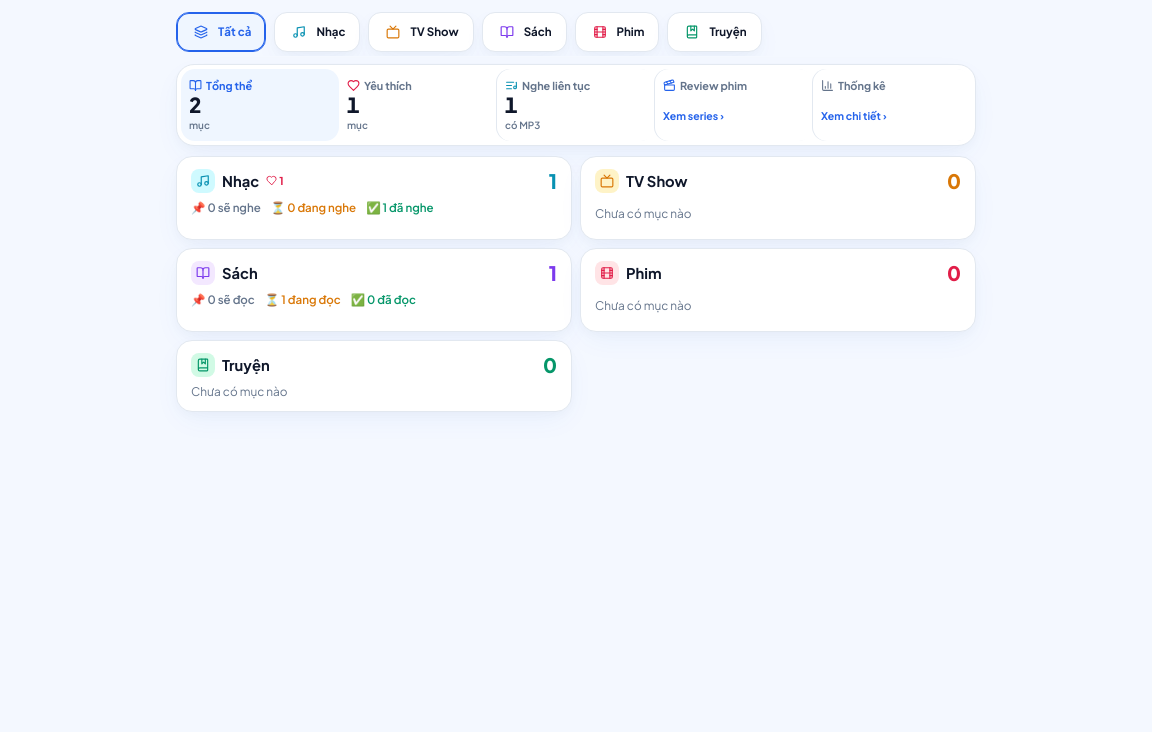
Test: LibraryPage audio navigation › keeps players out of the list and opens one focused player
The image size is (1152, 732).
Expected: the text "2026-08-12" is not shown
Expected: the text "10:04" is not shown
Click the button with aria-label "Mở thư viện Nhạc, 1 mục".
click(374, 198)  # box [176,156,572,240]
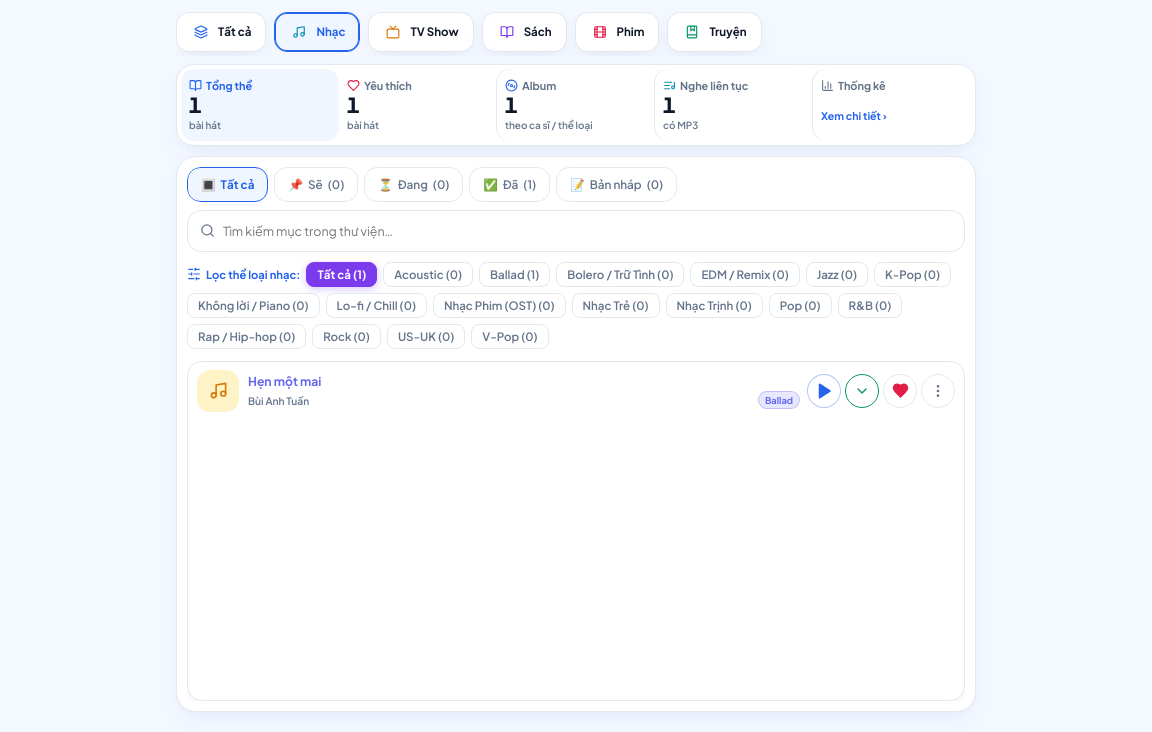
Click the button named "Nghe Hẹn một mai".
click(824, 391)  # box [807,374,841,408]
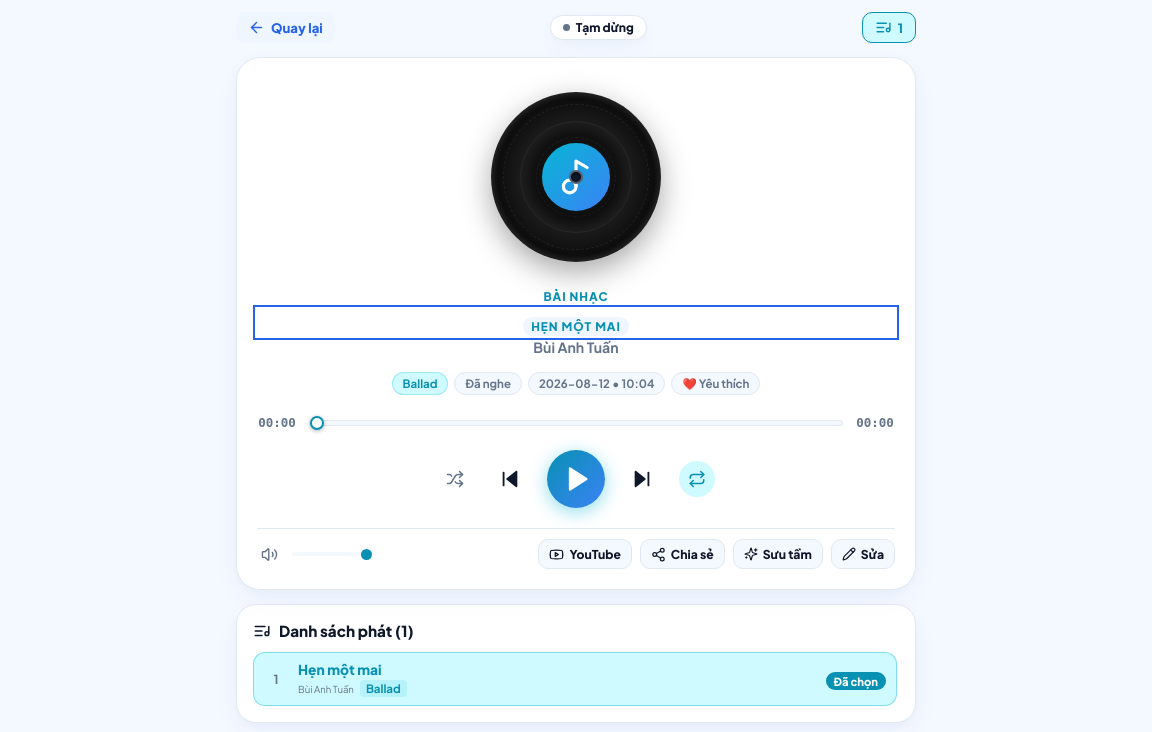
Result: the heading "Hẹn một mai" is shown at [523,317,629,336]
Result: the text "2026-08-12 • 10:04" is shown at [528,372,665,395]
Click the button with aria-label "Quay lại thư viện".
click(285, 28)  # box [236,12,335,43]
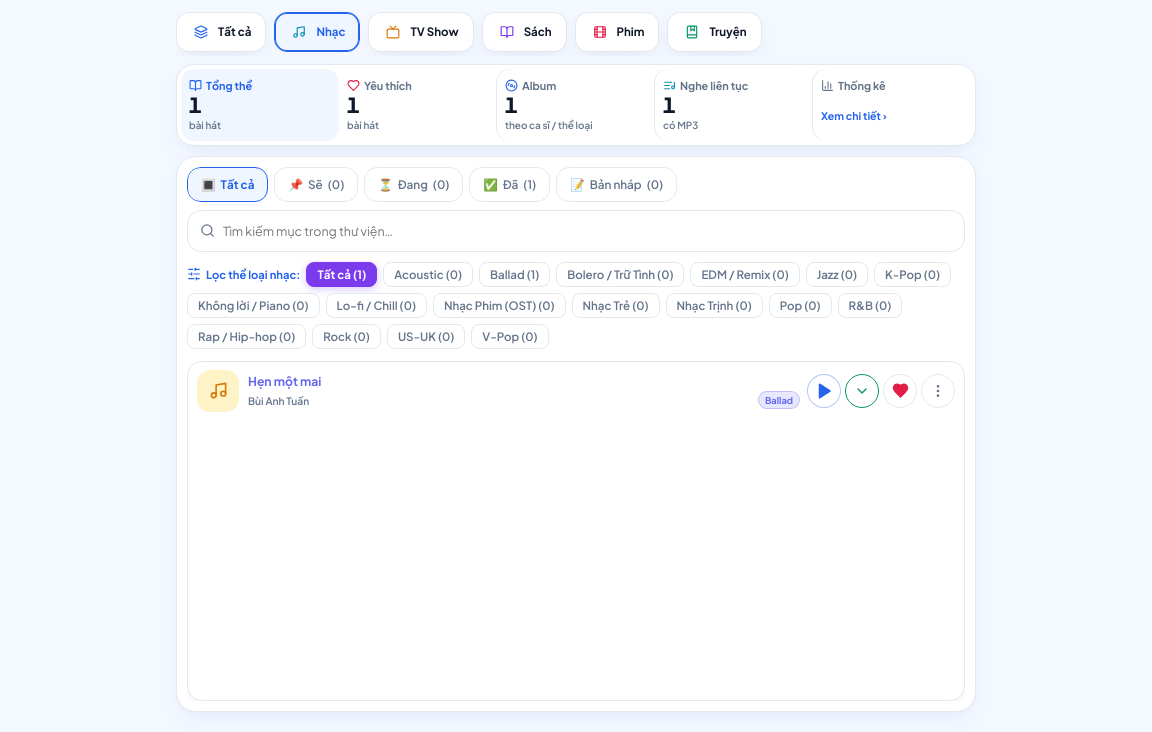
Result: the button named "Nghe Hẹn một mai" is shown at [807,374,841,408]
